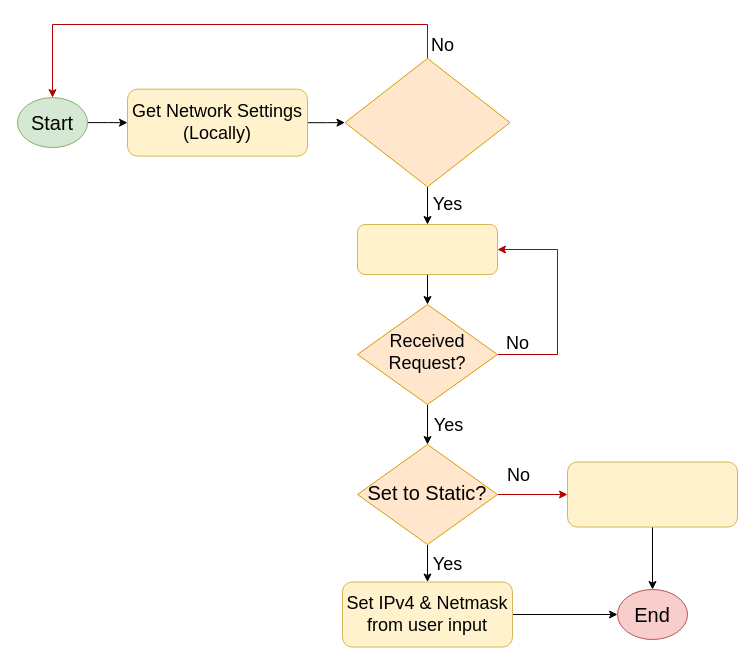
Image size: 755x665. Some labels were removed from this diagram. Each missing label, with the box of its shape:
Connected to Dongle?: (344, 57, 510, 187)
Send Requested Data or set DHCP: (566, 461, 738, 527)
Wait for Dongle's Request: (356, 224, 498, 274)
